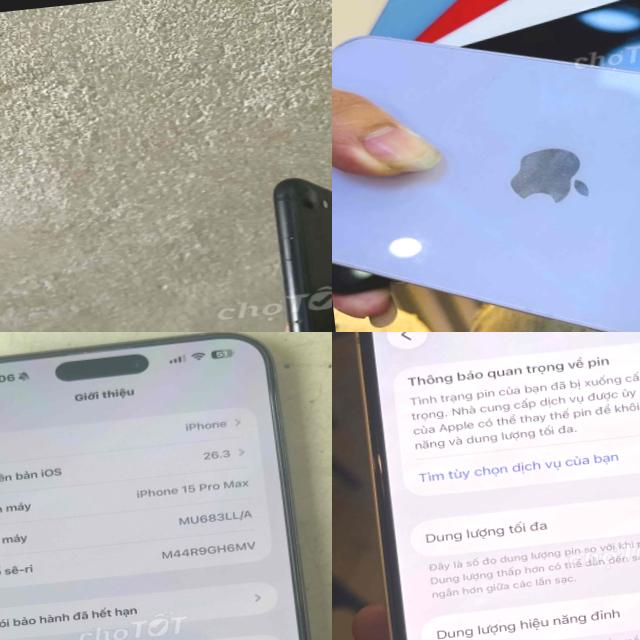gen_12_13: (339, 332, 640, 640)
gen_14: (332, 37, 640, 332)
gen_15: (0, 332, 332, 640)
gen_7_8: (257, 168, 332, 332)
